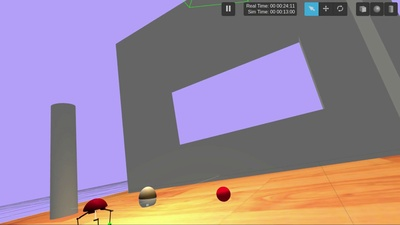mira_robot: (139, 186, 157, 208)
